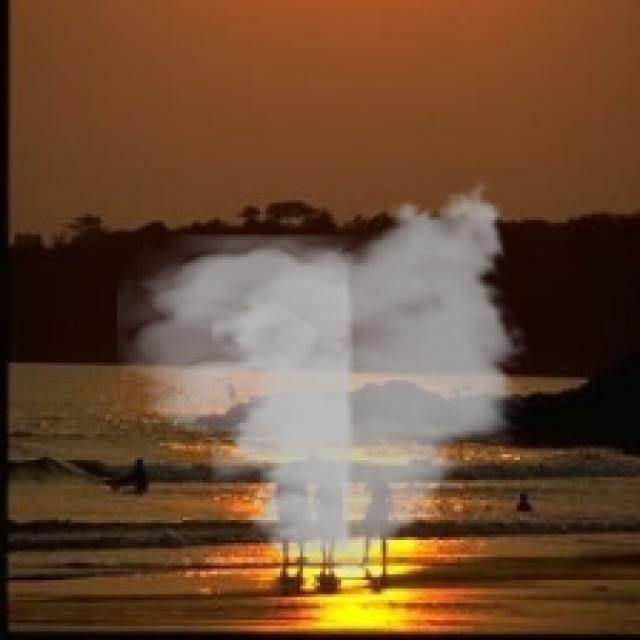Smoke: (117, 172, 532, 592)
